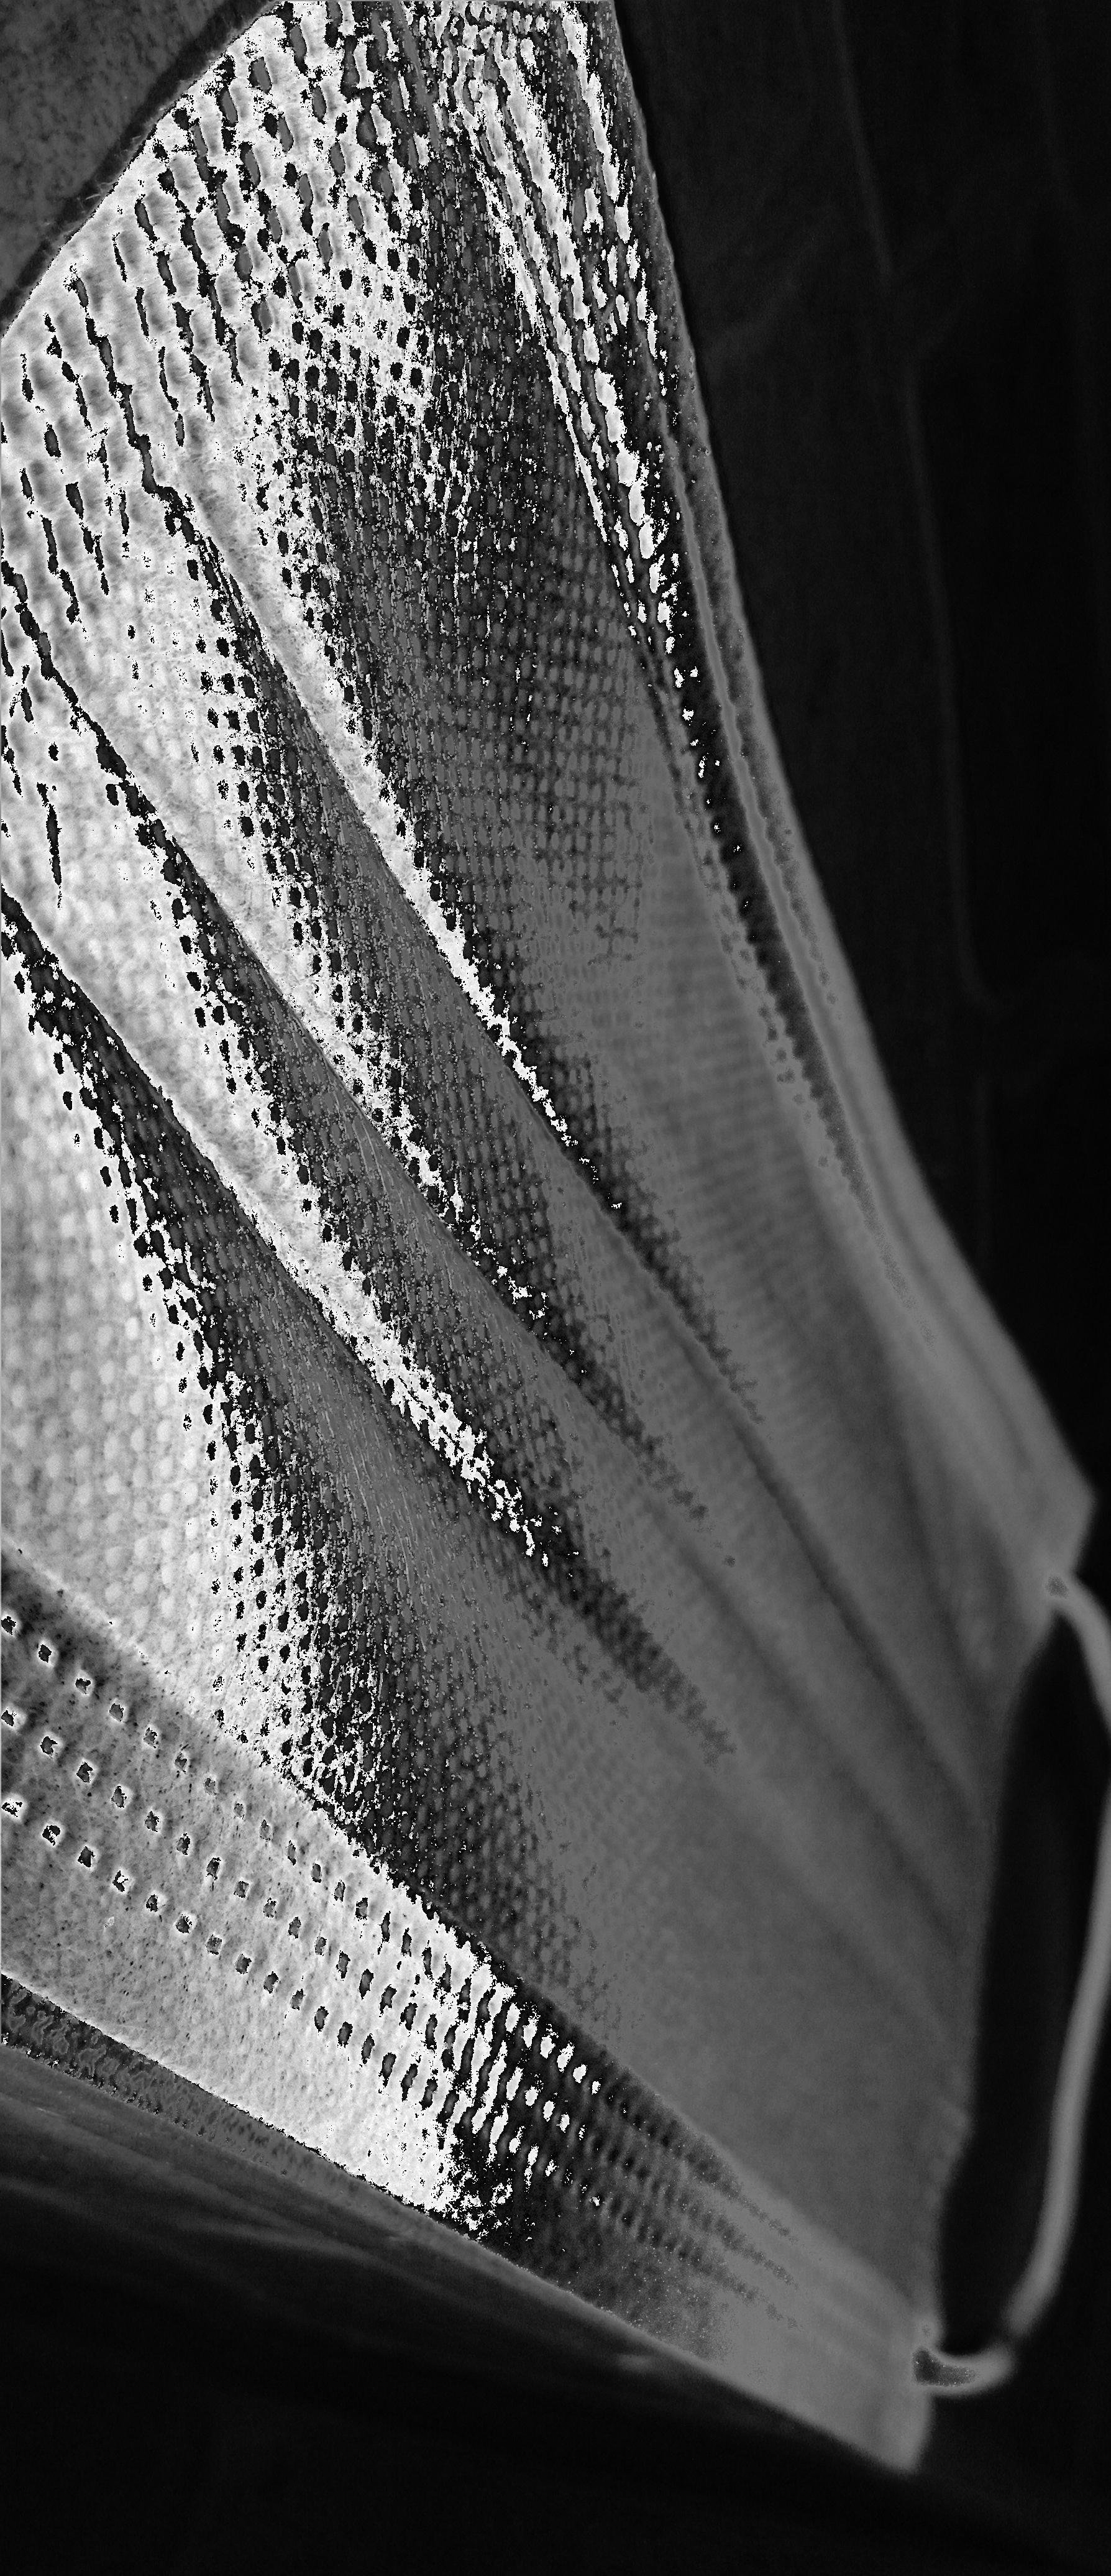High GSM: (0, 715, 624, 1612)
